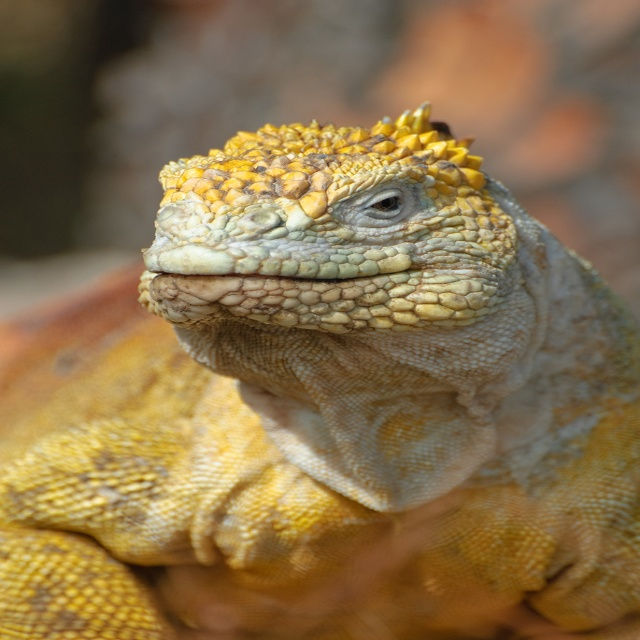Lizard: (0, 103, 639, 640)
